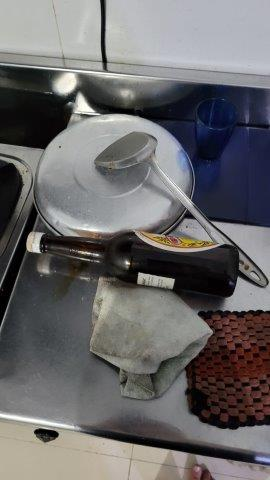botolkaca: (28, 229, 240, 302)
